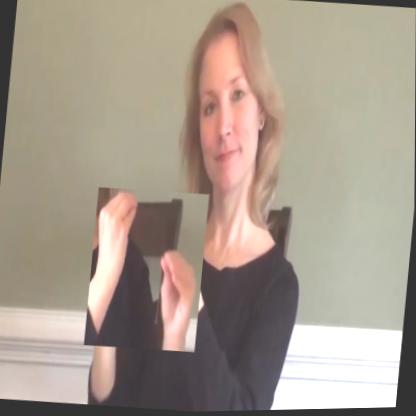Fix: (84, 186, 210, 355)
